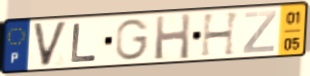G: (114, 17, 151, 62)
H: (199, 10, 243, 59), (153, 12, 193, 62)
L: (69, 22, 100, 65)
V: (30, 19, 70, 69)
Z: (241, 9, 278, 55)
